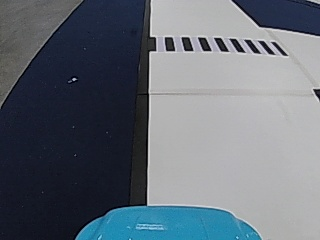CrossWalk: (152, 35, 284, 55)
